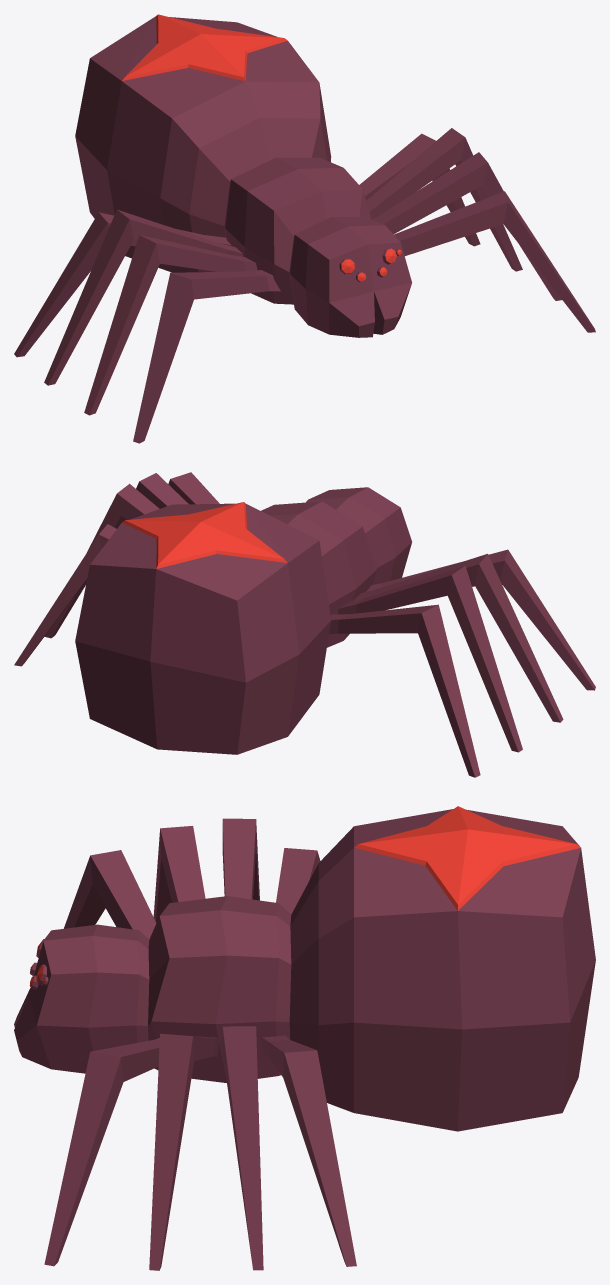
Rendered from redspider.glb.
The picture shows the model from 3 angles, top to bottom: view 1: azimuth 30°, elevation 25°; view 2: azimuth 150°, elevation 25°; view 3: azimuth 270°, elevation 25°; orthographic projection. The views are drawn at different scales.
Visible parts, largest first — view 1: Cube.041; view 2: Cube.041; view 3: Cube.041.
Boxes of the visible parts, bbox=[...] form: Cube.041: bbox=[14, 14, 595, 443]; Cube.041: bbox=[14, 472, 595, 777]; Cube.041: bbox=[14, 806, 595, 1270].
Size of the model in its own units: 1.04 by 0.481 by 0.8629.
